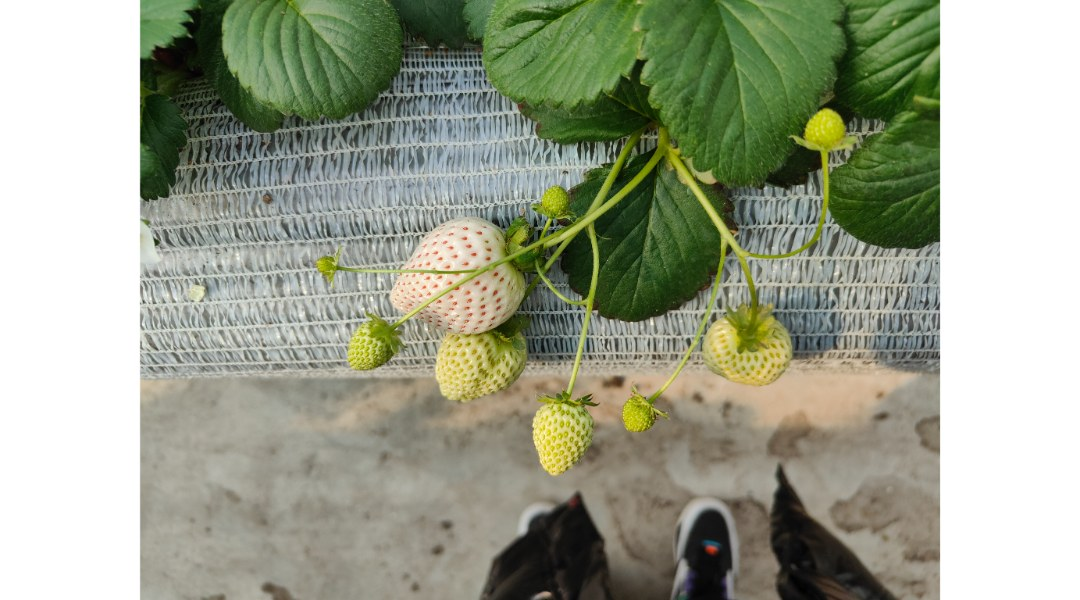berry: (376, 210, 529, 344), (426, 317, 530, 410), (710, 302, 799, 395), (533, 391, 599, 480), (795, 103, 861, 163), (343, 312, 403, 376), (615, 388, 663, 449)
strain: (670, 249, 719, 386), (785, 154, 837, 266), (673, 154, 740, 234), (576, 239, 605, 411), (601, 127, 627, 188)
